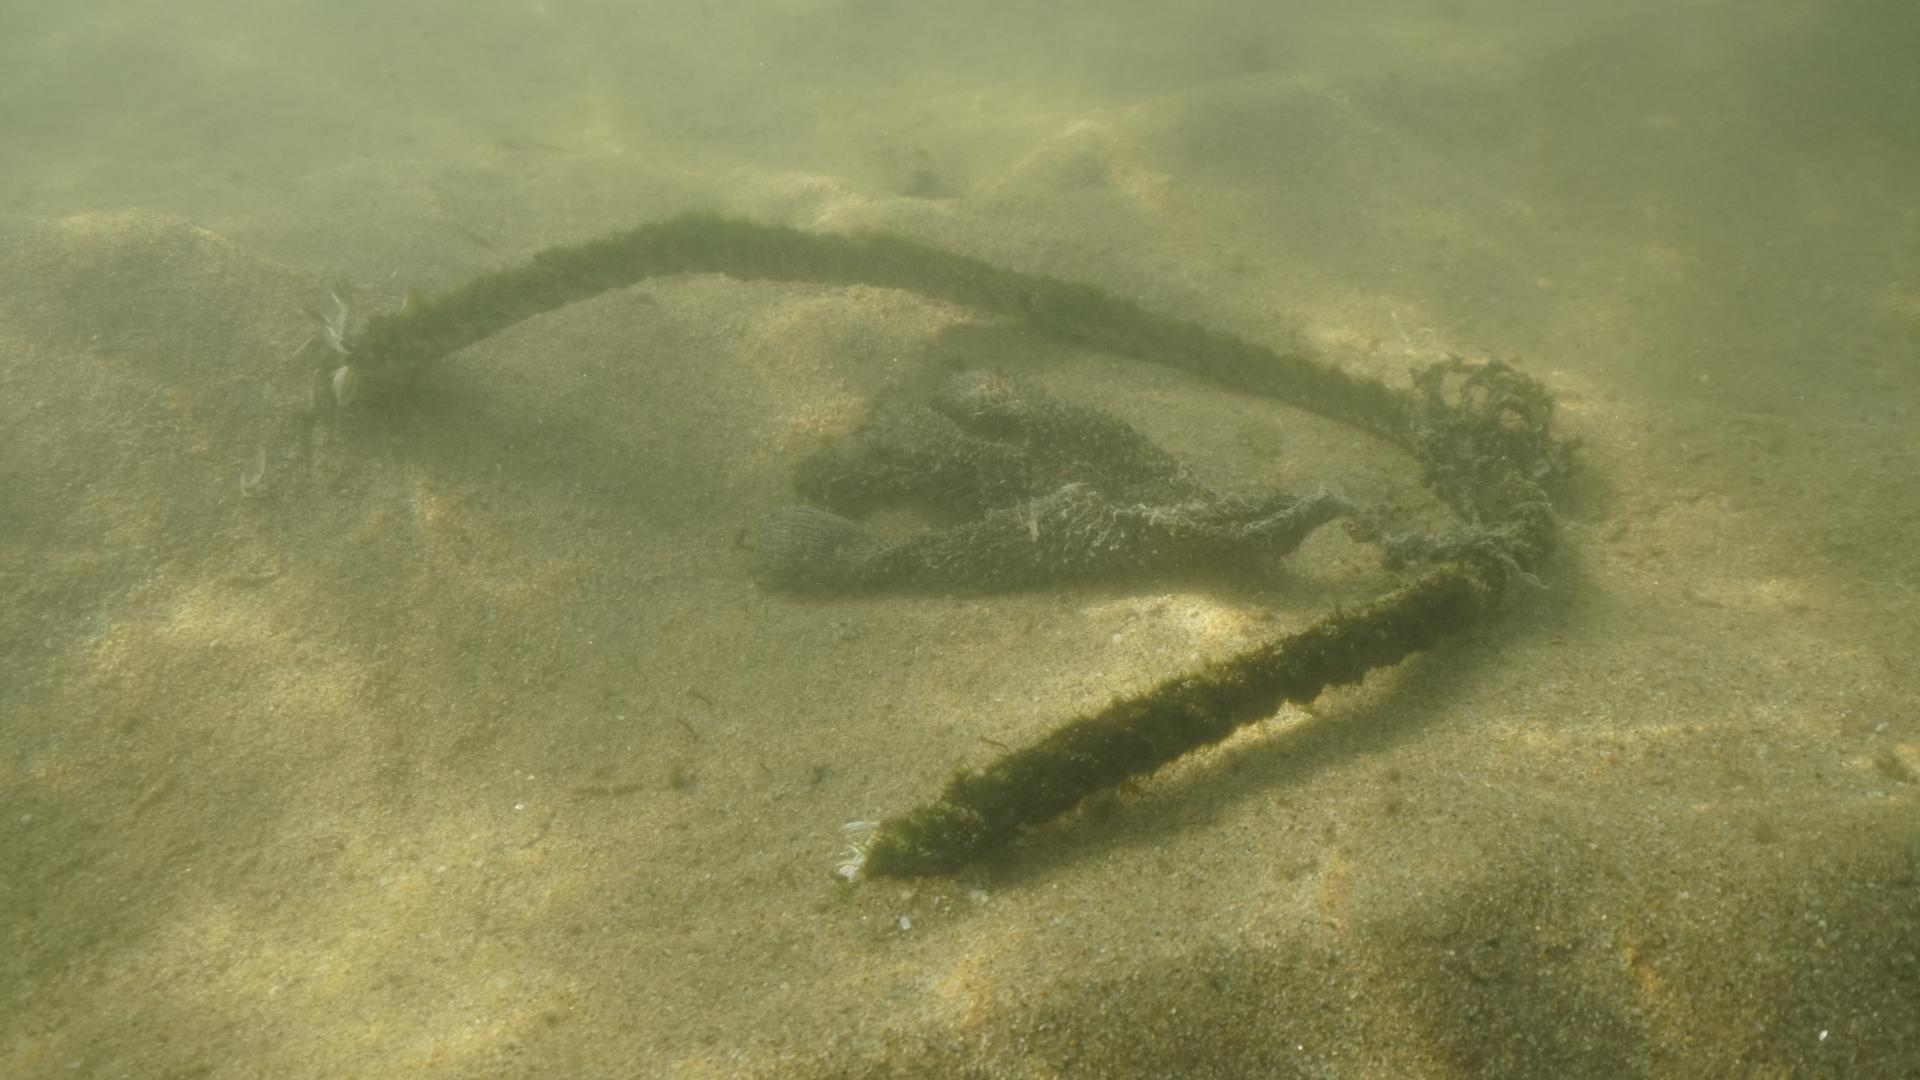rope: (344, 202, 1572, 884)
